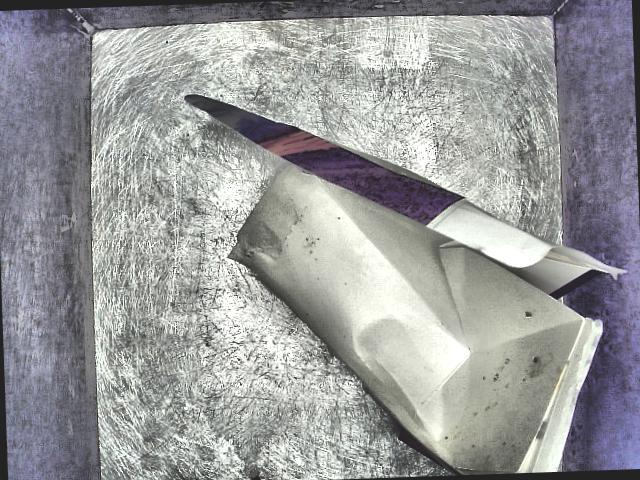Paper: (169, 69, 639, 480)
